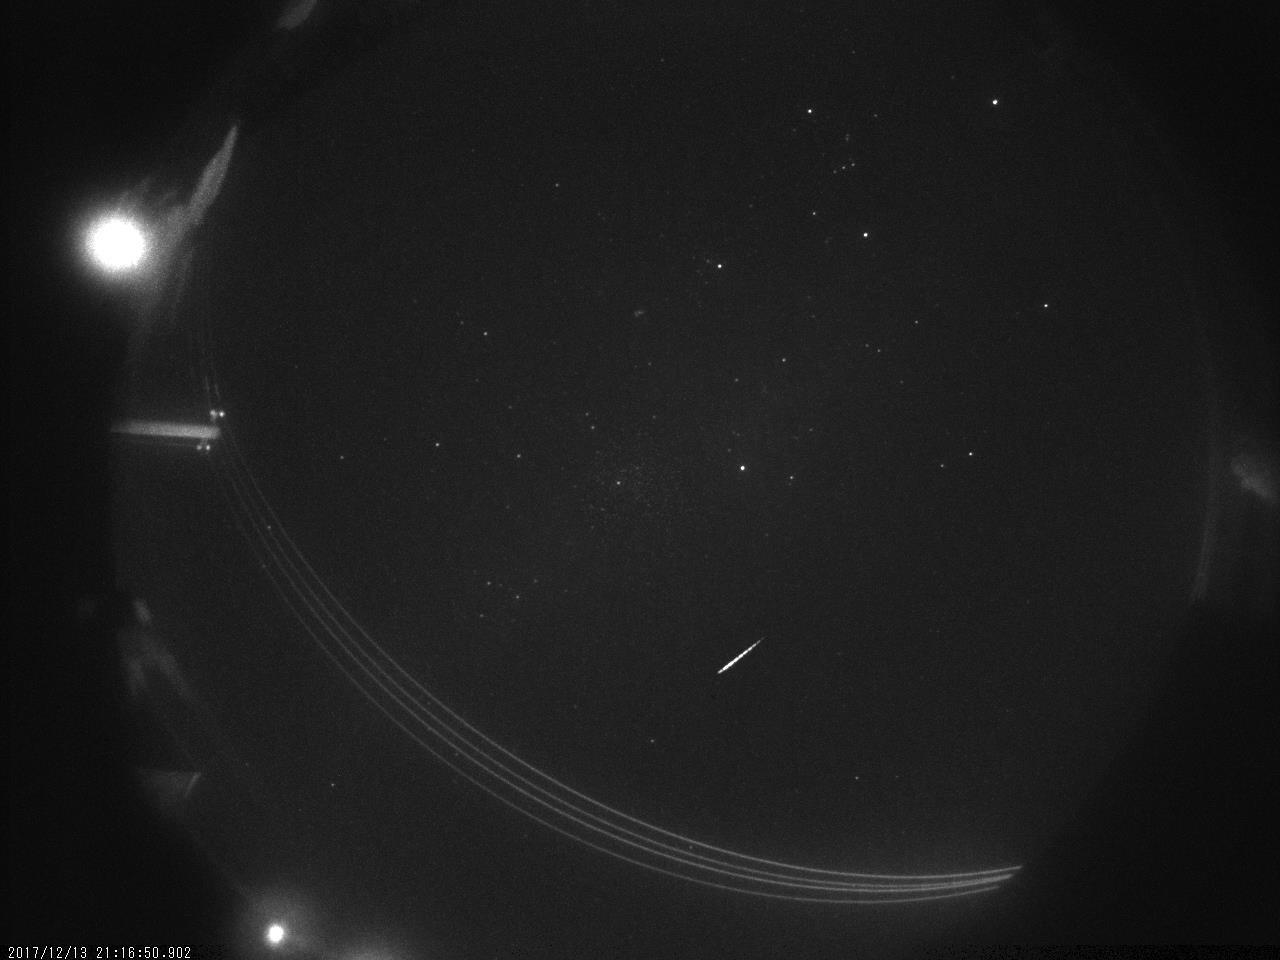Meteor: (714, 633, 768, 675)
